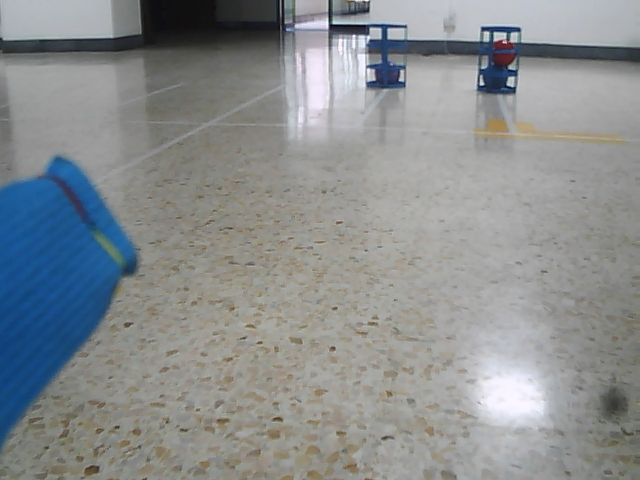Blue ball: (482, 64, 508, 90)
Cyro: (475, 23, 521, 97), (364, 22, 408, 90)
Purple ball: (374, 60, 402, 85)
Red ball: (492, 38, 517, 67)
